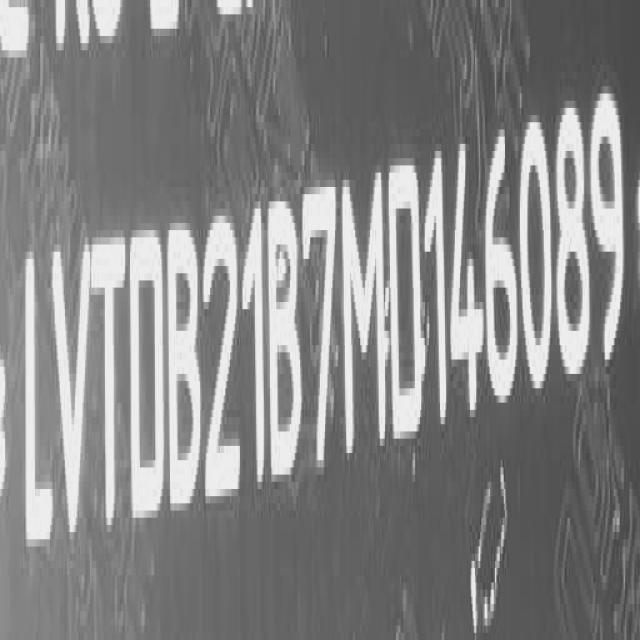0: (520, 112, 556, 406)
1: (244, 191, 269, 503), (424, 142, 448, 446)
2: (204, 206, 243, 518)
4: (448, 131, 487, 427)
6: (484, 122, 519, 421)
7: (302, 172, 340, 486)
8: (556, 100, 590, 383)
9: (594, 77, 628, 378)
B: (267, 187, 303, 497), (170, 215, 206, 524)
D: (128, 221, 169, 534), (389, 154, 425, 464)
L: (18, 244, 54, 574)
M: (342, 160, 392, 466)
T: (96, 223, 128, 546)
V: (50, 233, 94, 555)
